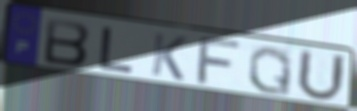B: (42, 16, 93, 68)
F: (193, 36, 246, 87)
K: (149, 30, 190, 83)
L: (97, 24, 137, 75)
Q: (247, 44, 294, 98)
U: (294, 47, 348, 104)
